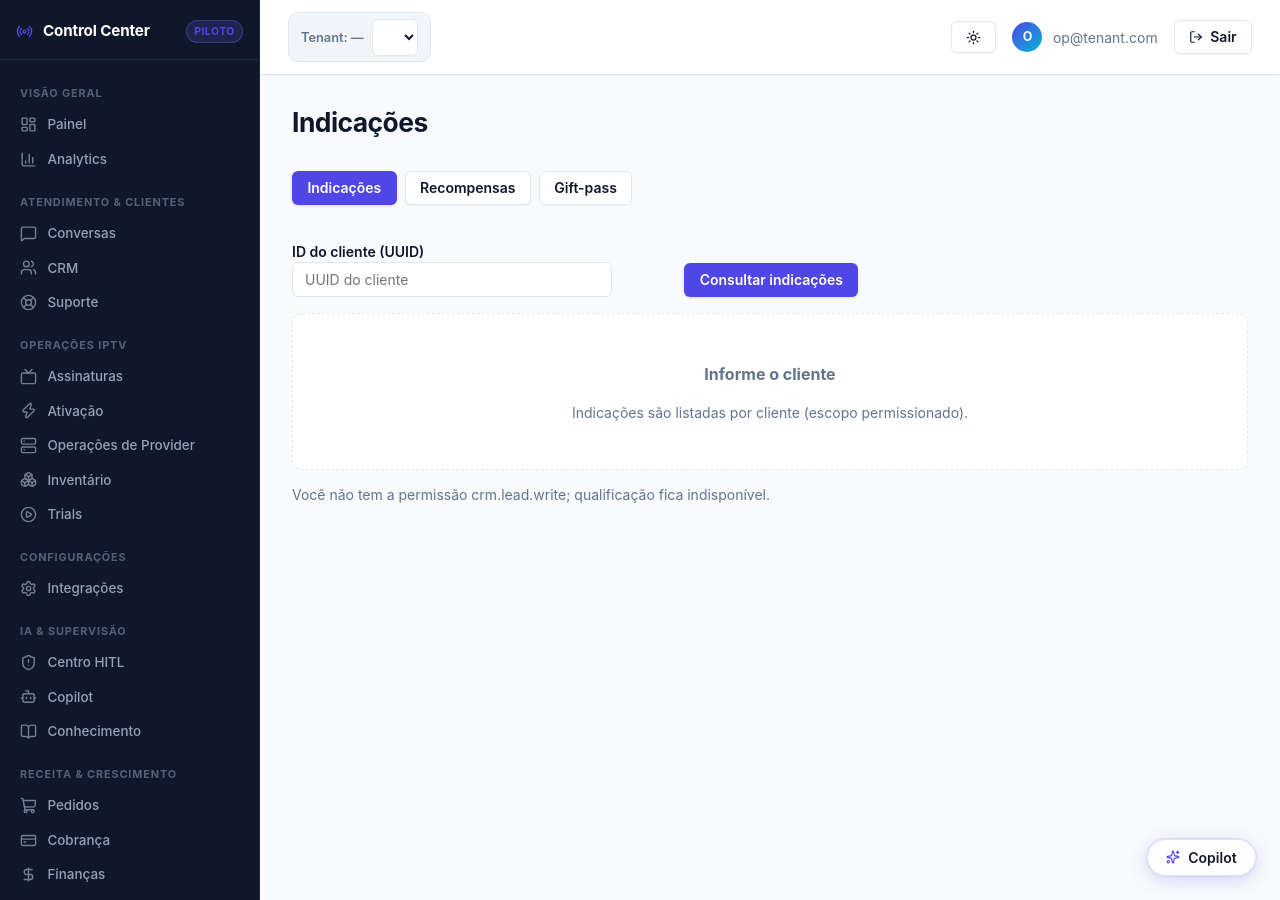
ReferralsPage › consulta recompensas do cliente e realiza resgate sob commerce.order.write
The image size is (1280, 900).
Expected: the heading "Indicações" is shown, [292, 106, 428, 138]
Click the button "Recompensas": (468, 188) [405, 171, 531, 205]
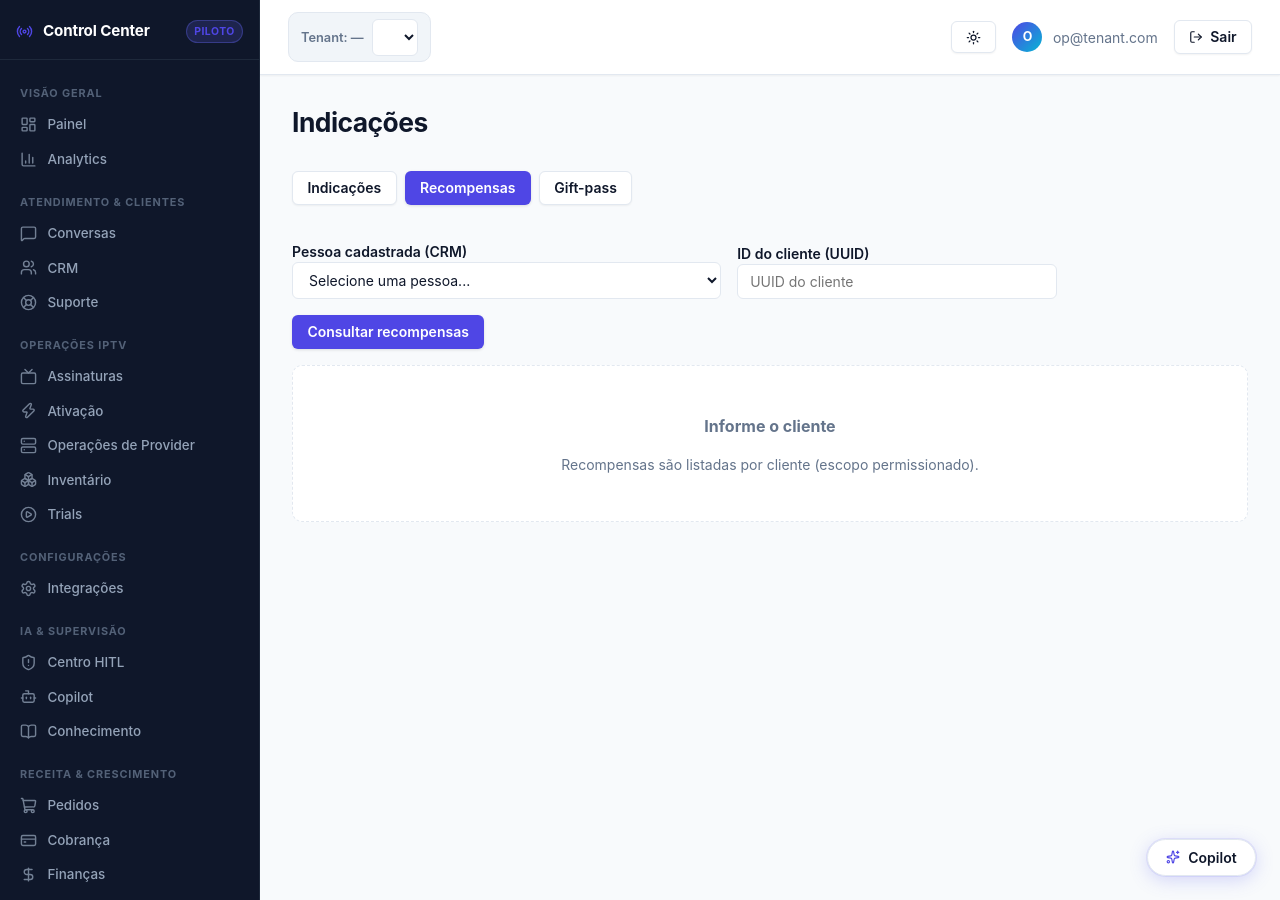
In the field with placeholder "UUID do cliente": (897, 281) [737, 264, 1057, 299], type "c-999"
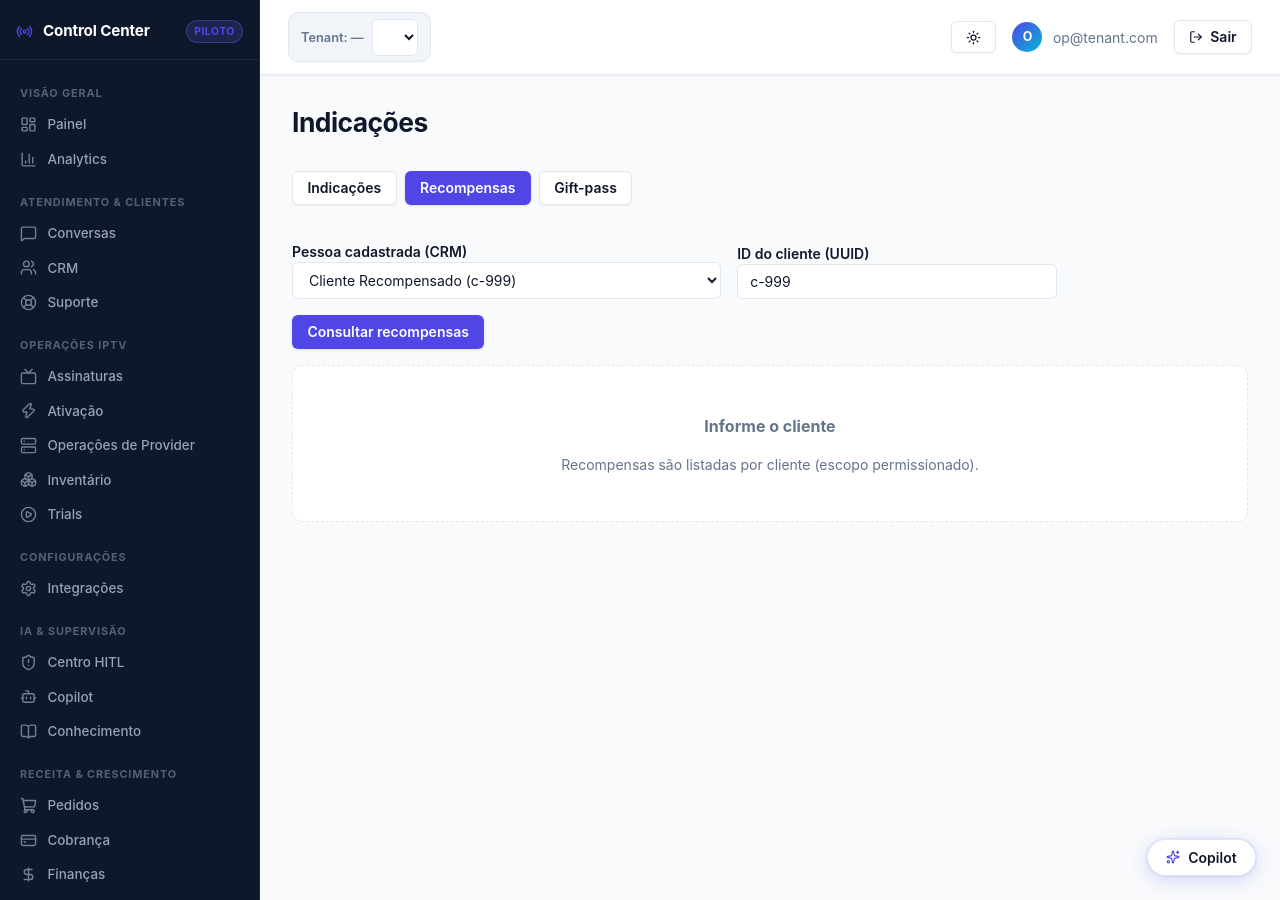
Click the button "Consultar recompensas": (388, 332) [292, 315, 484, 349]
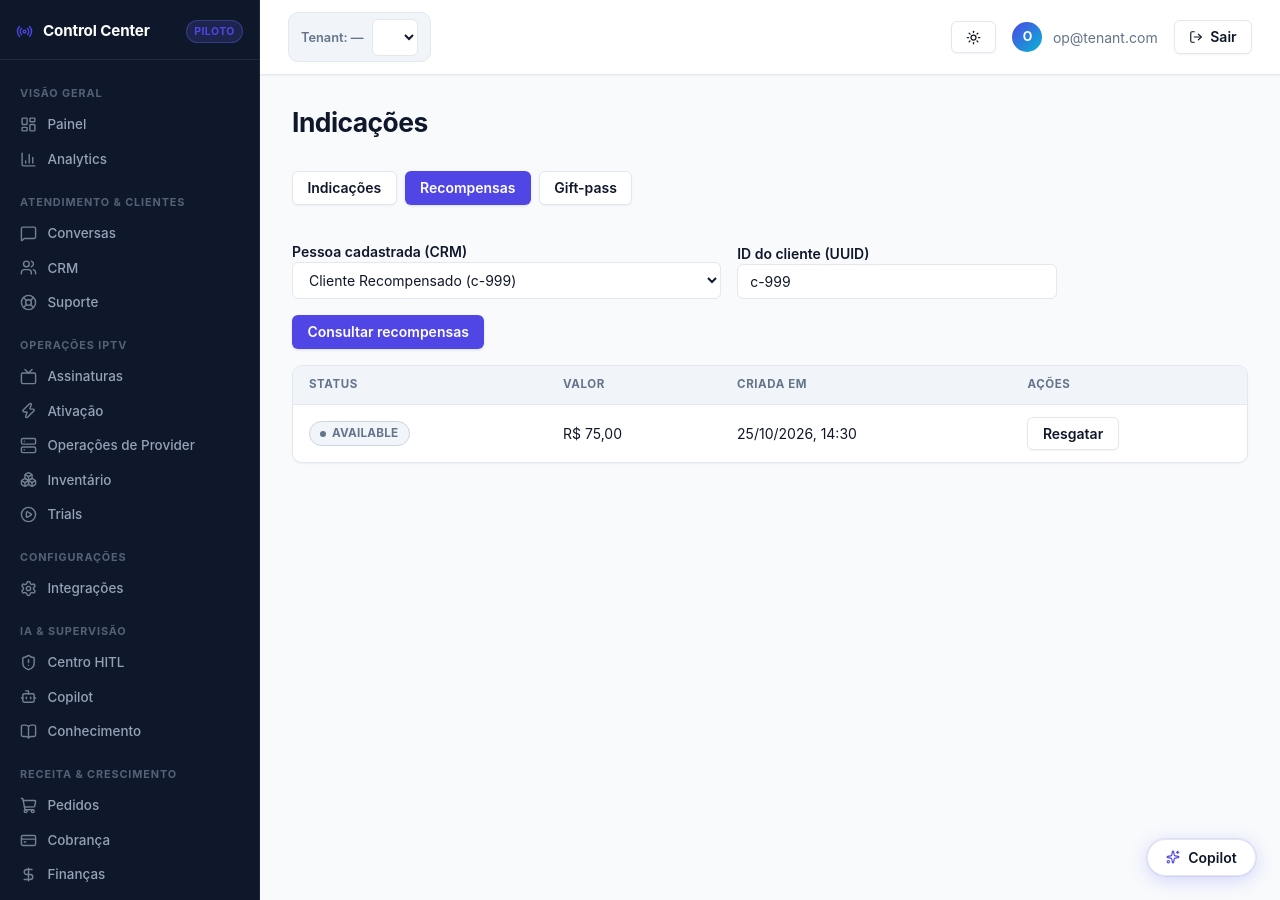
Expected: the text "R$ 75,00" is shown, [547, 405, 721, 462]
Expected: the text "AVAILABLE" is shown, [309, 421, 410, 446]
Click the button "Resgatar": (1073, 434) [1028, 417, 1119, 450]
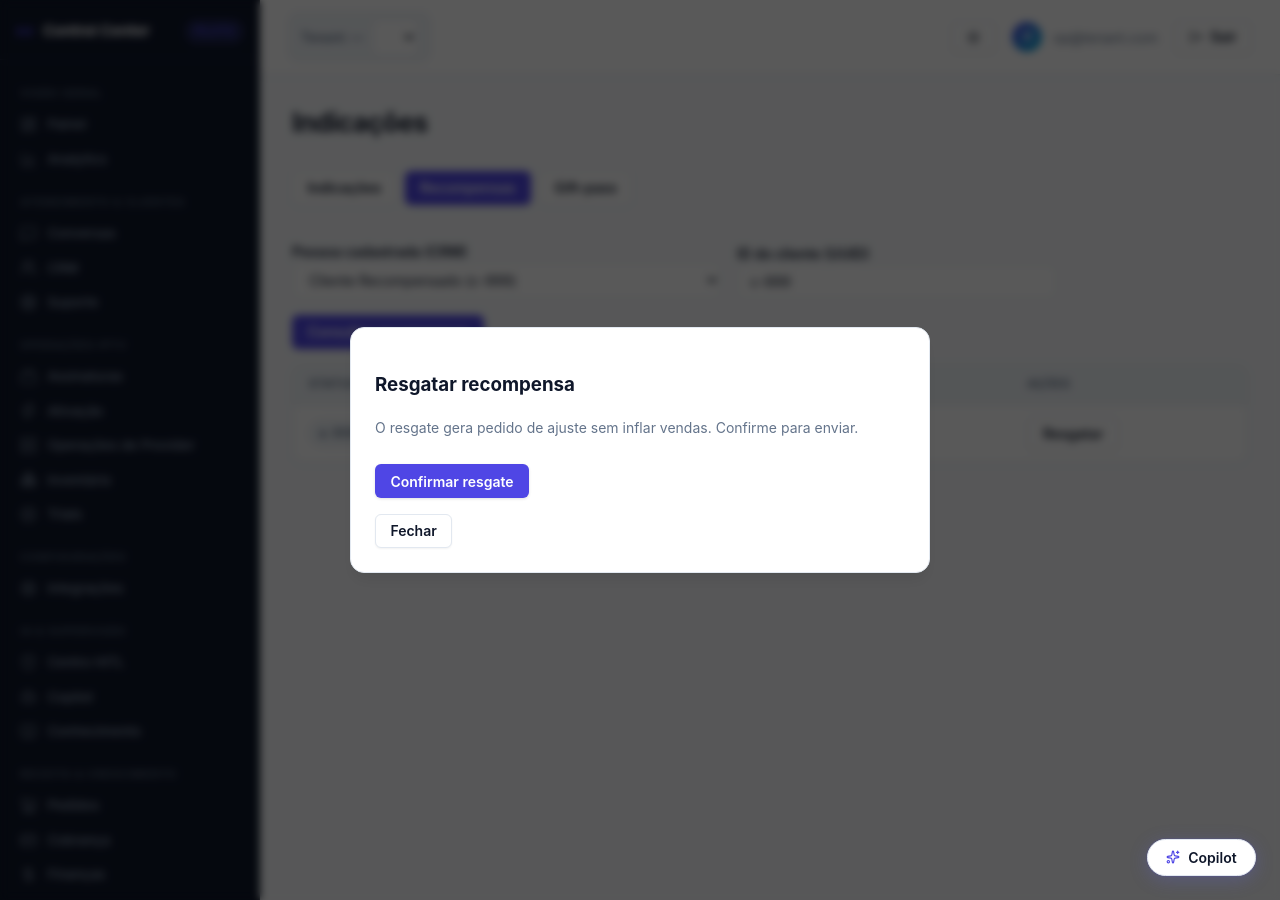
Click the button "Confirmar resgate": (452, 481) [375, 464, 529, 498]
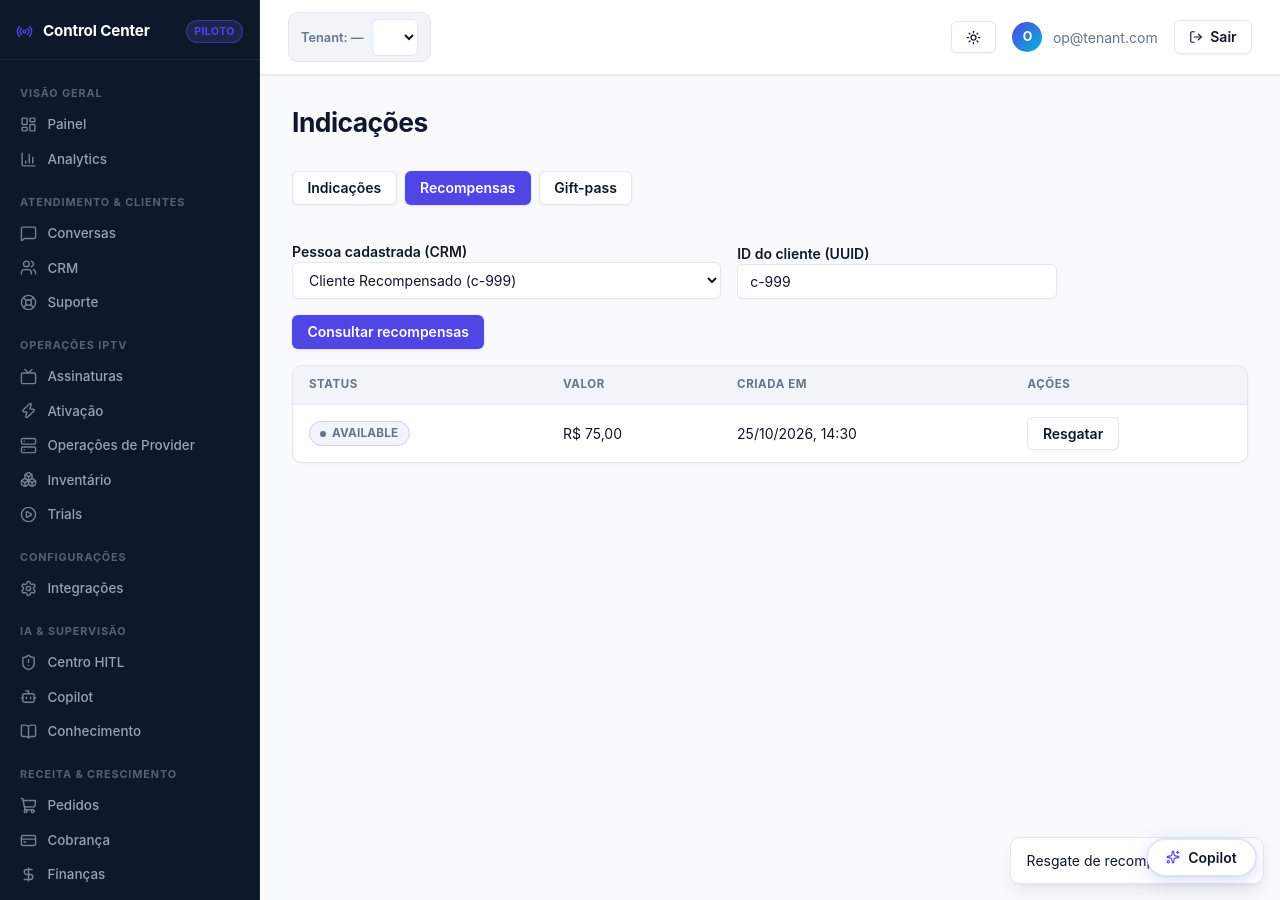
Expected: the text "Resgate de recompensa enviado." is shown, [1010, 837, 1264, 884]
